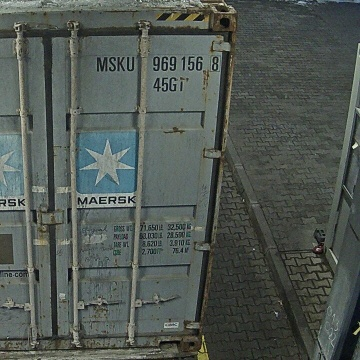serial_id: (96, 56, 219, 71)
